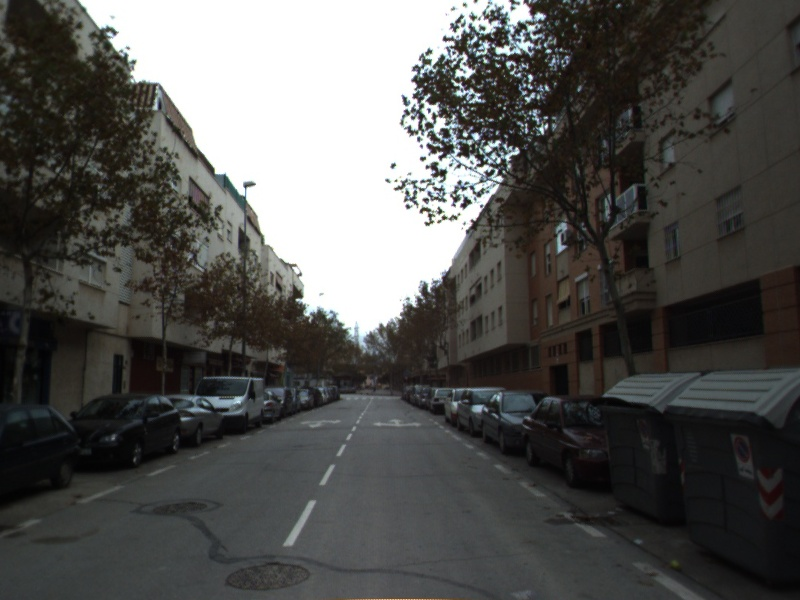STRAIGHT_LEFT_RIGHT: (371, 416, 425, 429)
